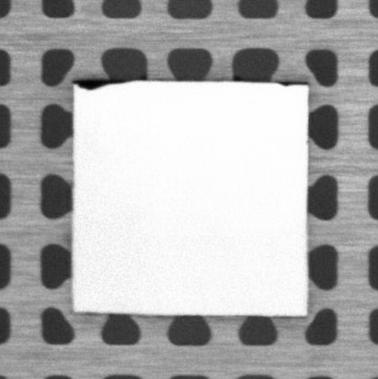DIE_BROKEN: (72, 77, 129, 91)
